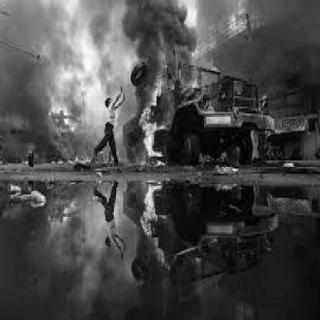Fire: (120, 97, 172, 169), (175, 62, 209, 94)
other: (136, 175, 172, 242)
